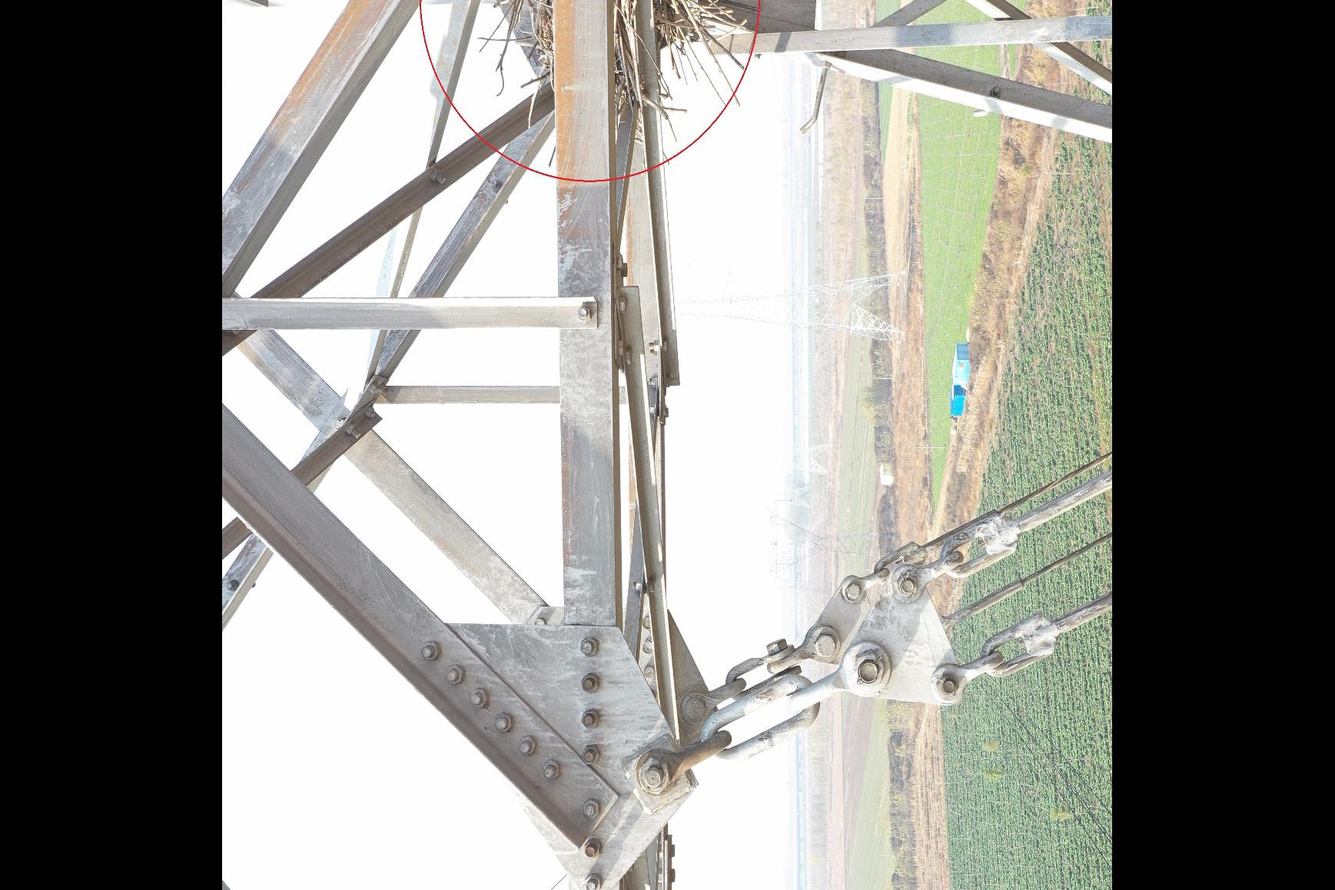nest: (474, 1, 752, 146)
